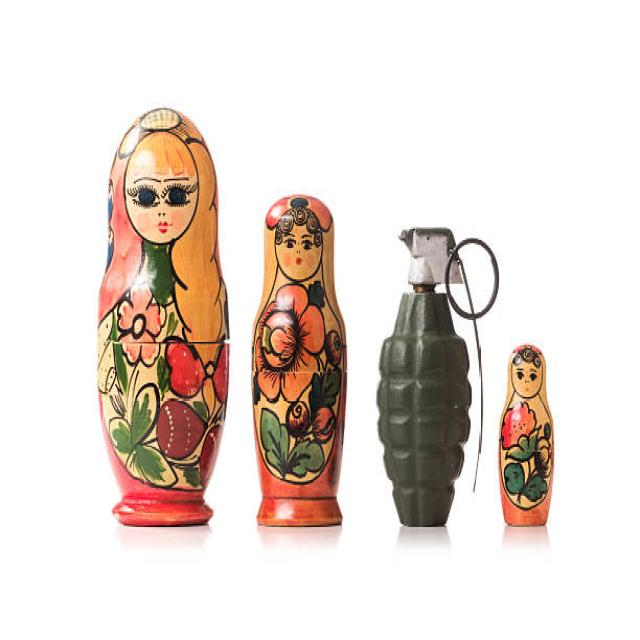grenade: (373, 220, 503, 544)
